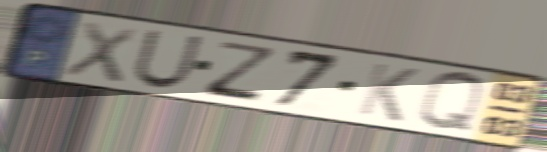7: (269, 47, 344, 110)
K: (355, 60, 422, 125)
Q: (415, 69, 487, 136)
U: (130, 27, 207, 90)
X: (60, 18, 140, 86)
Z: (200, 39, 279, 105)
